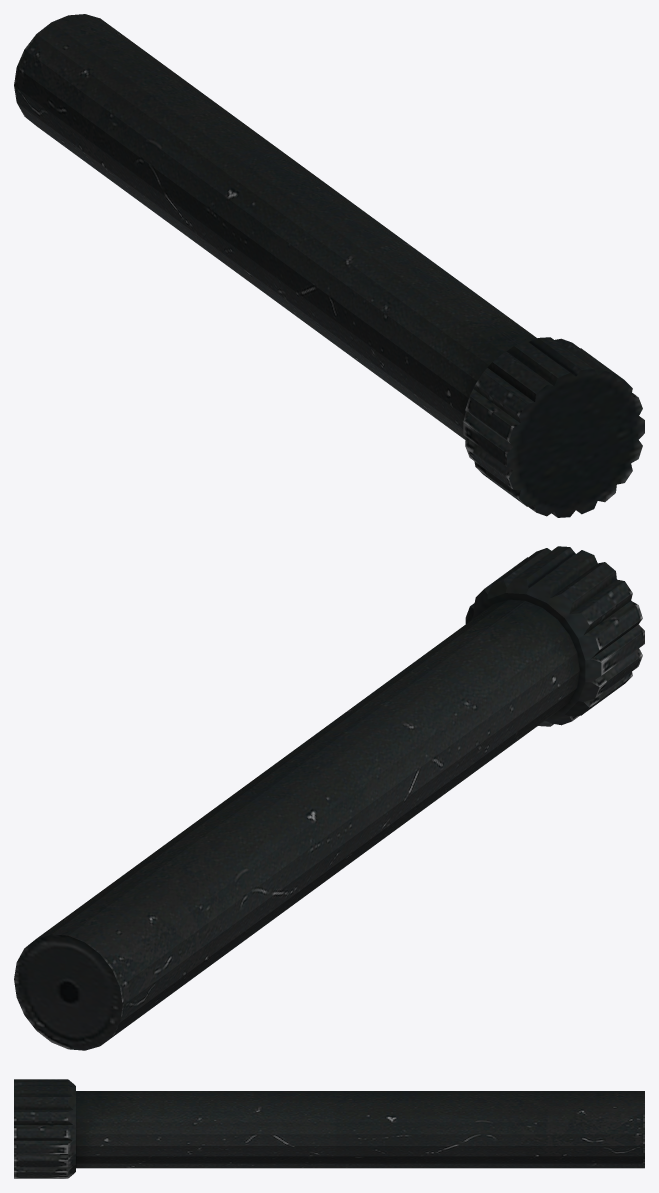
3 renders of one model, top to bottom at view 1: azimuth 30°, elevation 25°; view 2: azimuth 150°, elevation 25°; view 3: azimuth 270°, elevation 25°, orthographic. The views are drawn at different scales.
Parts seen in each view (by area): view 1: TW_55d484b44bdc2d1d4e8b456d_PZ_Import; view 2: TW_55d484b44bdc2d1d4e8b456d_PZ_Import; view 3: TW_55d484b44bdc2d1d4e8b456d_PZ_Import.
Boxes of the visible parts, <box> form: TW_55d484b44bdc2d1d4e8b456d_PZ_Import: <box>14,14,644,517</box>; TW_55d484b44bdc2d1d4e8b456d_PZ_Import: <box>14,546,644,1050</box>; TW_55d484b44bdc2d1d4e8b456d_PZ_Import: <box>14,1079,644,1178</box>.
Size of the model in its own units: 0.0171 by 0.1088 by 0.0171.
1 material, 1 textured.
